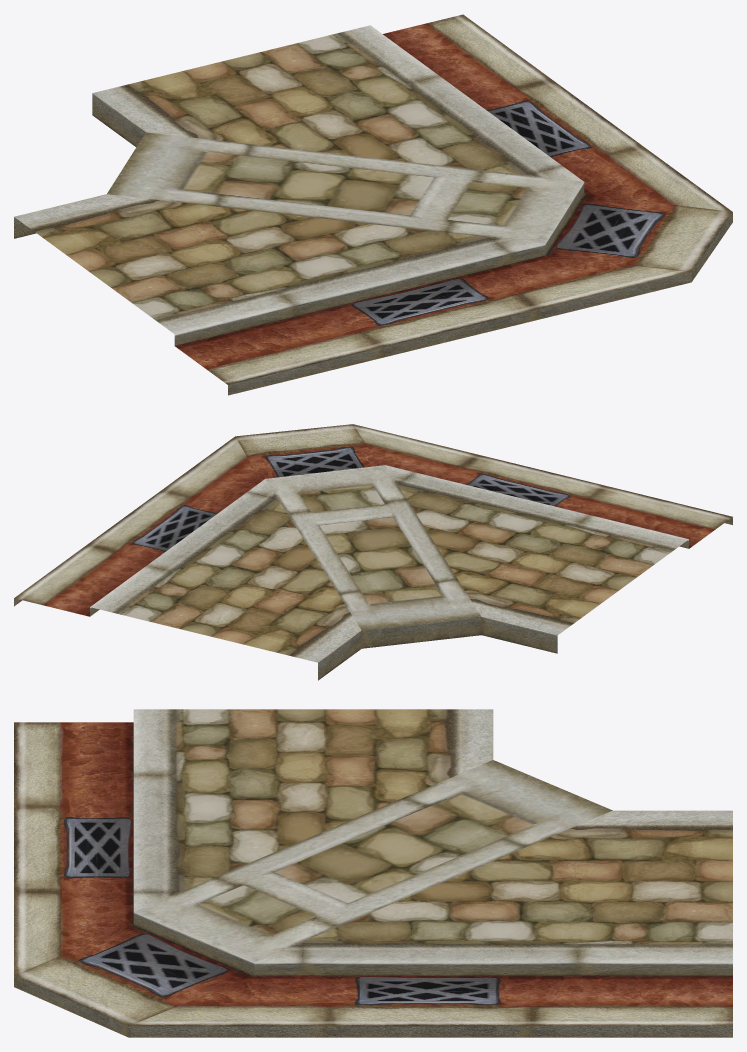
Rendered from obj_masabkoutri01.glb.
3 renders of one model, top to bottom at view 1: azimuth 30°, elevation 25°; view 2: azimuth 150°, elevation 25°; view 3: azimuth 270°, elevation 25°, orthographic. The views are drawn at different scales.
Parts seen in each view (by area): view 1: part_0; view 2: part_0; view 3: part_0.
Boxes of the visible parts, left/top/right/bottom form: part_0: left=14, top=14, right=732, bottom=395; part_0: left=14, top=424, right=732, bottom=680; part_0: left=14, top=709, right=732, bottom=1037.
Size of the model in its own units: 6 by 0.2284 by 6.
Materials: 2 (2 with a texture image).
